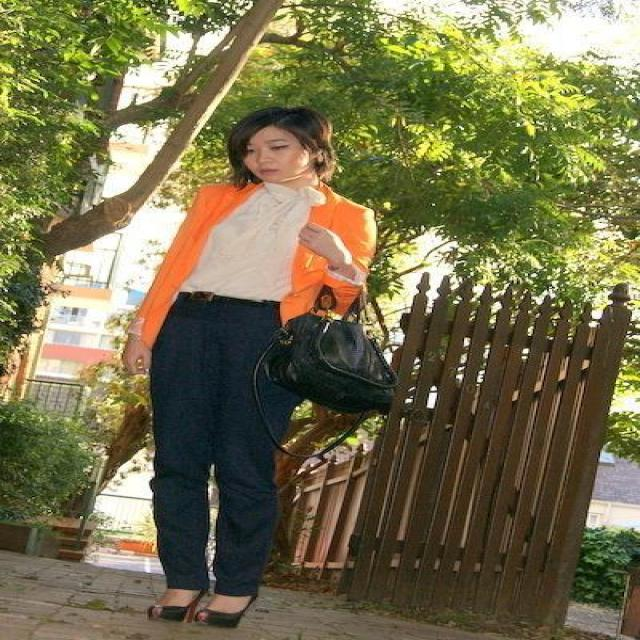bag: (263, 269, 402, 421)
jacket: (108, 182, 374, 344)
pants: (147, 291, 312, 601)
shirt: (179, 174, 325, 301)
shoe: (154, 586, 251, 626)
